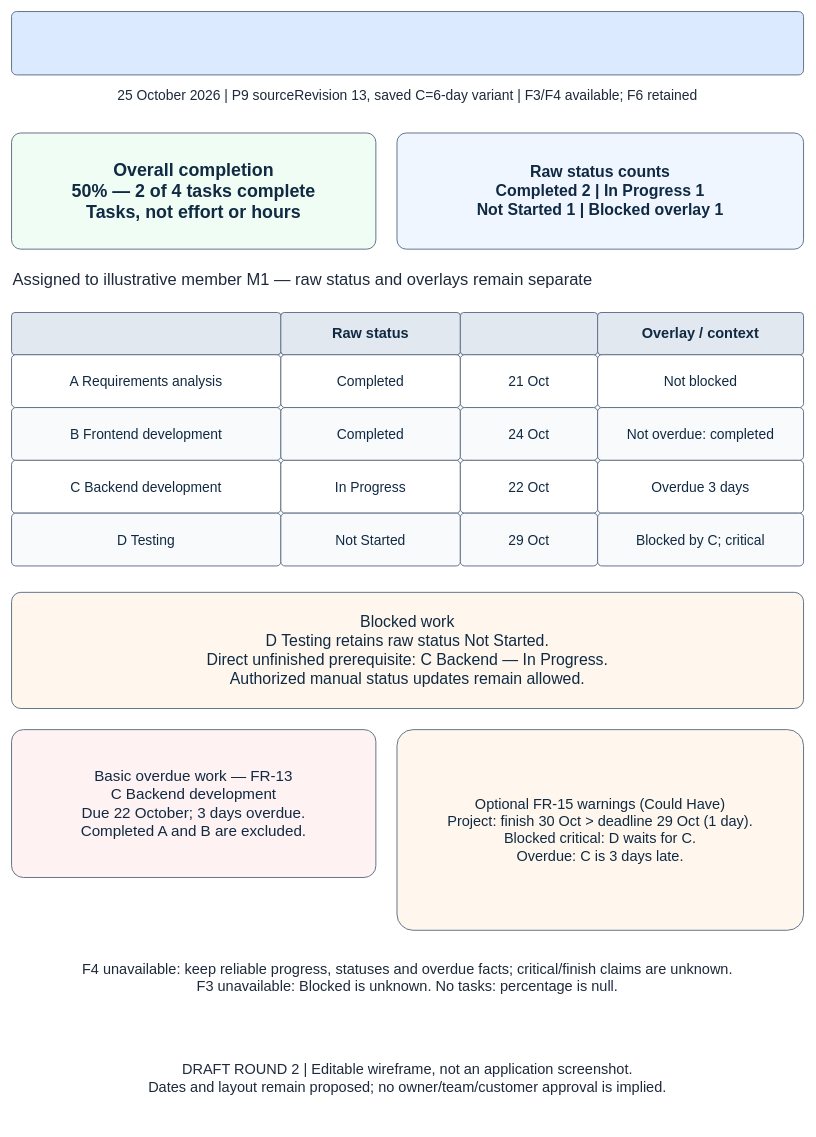
The diagram is 816 pixels wide and 1137 high, and some of its shapes have lost their labels. The shapes that lost their labels are listed below. From the top down, each one's centre as x and y in pixels, then its label:
point 407,43: Project overview — illustrative design concept
point 146,333: Task
point 529,333: Task deadline
